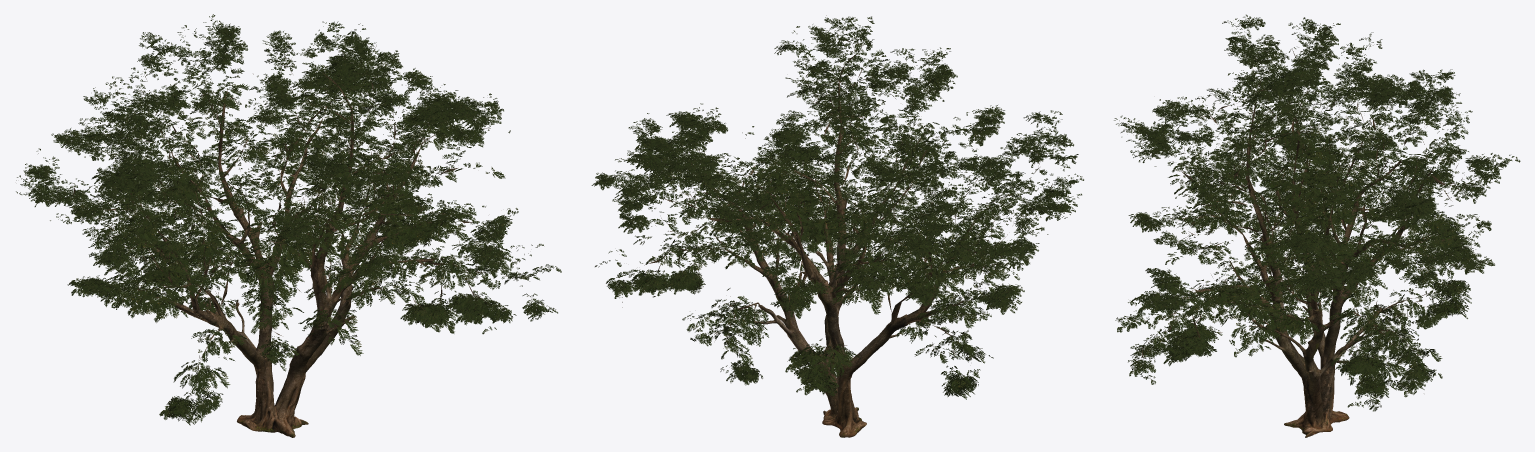
The model's file is tree-jacaranda.glb.
3 views of the same model, side by side, from view 1: azimuth 30°, elevation 25°; view 2: azimuth 150°, elevation 25°; view 3: azimuth 270°, elevation 25° (orthographic). The views are drawn at different scales.
Parts seen in each view (by area): view 1: Jacaranda_Urban; view 2: Jacaranda_Urban; view 3: Jacaranda_Urban.
Part boxes in pixels (x1,y1,x2,y2): Jacaranda_Urban: [16, 14, 561, 437]; Jacaranda_Urban: [591, 15, 1083, 437]; Jacaranda_Urban: [1114, 14, 1520, 437].
Bounding box in the file's own units: 6.75 × 5.39 × 5.29.
Materials: 3 (3 with a texture image).
